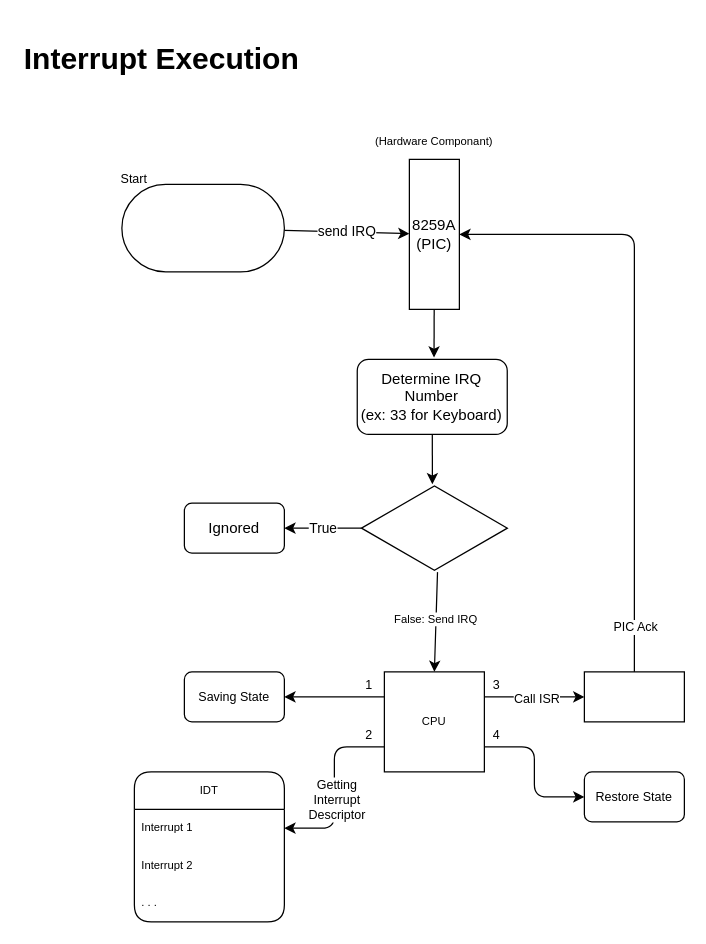
The diagram is 706 pixels wide and 944 high, and some of its shapes have lost their labels. Each missing label, with the centre of its shape:
"Hardware (ex: Keyboard)" goes at [202,227].
"Is Masked ?" goes at [433,527].
"ISR" goes at [633,696].
